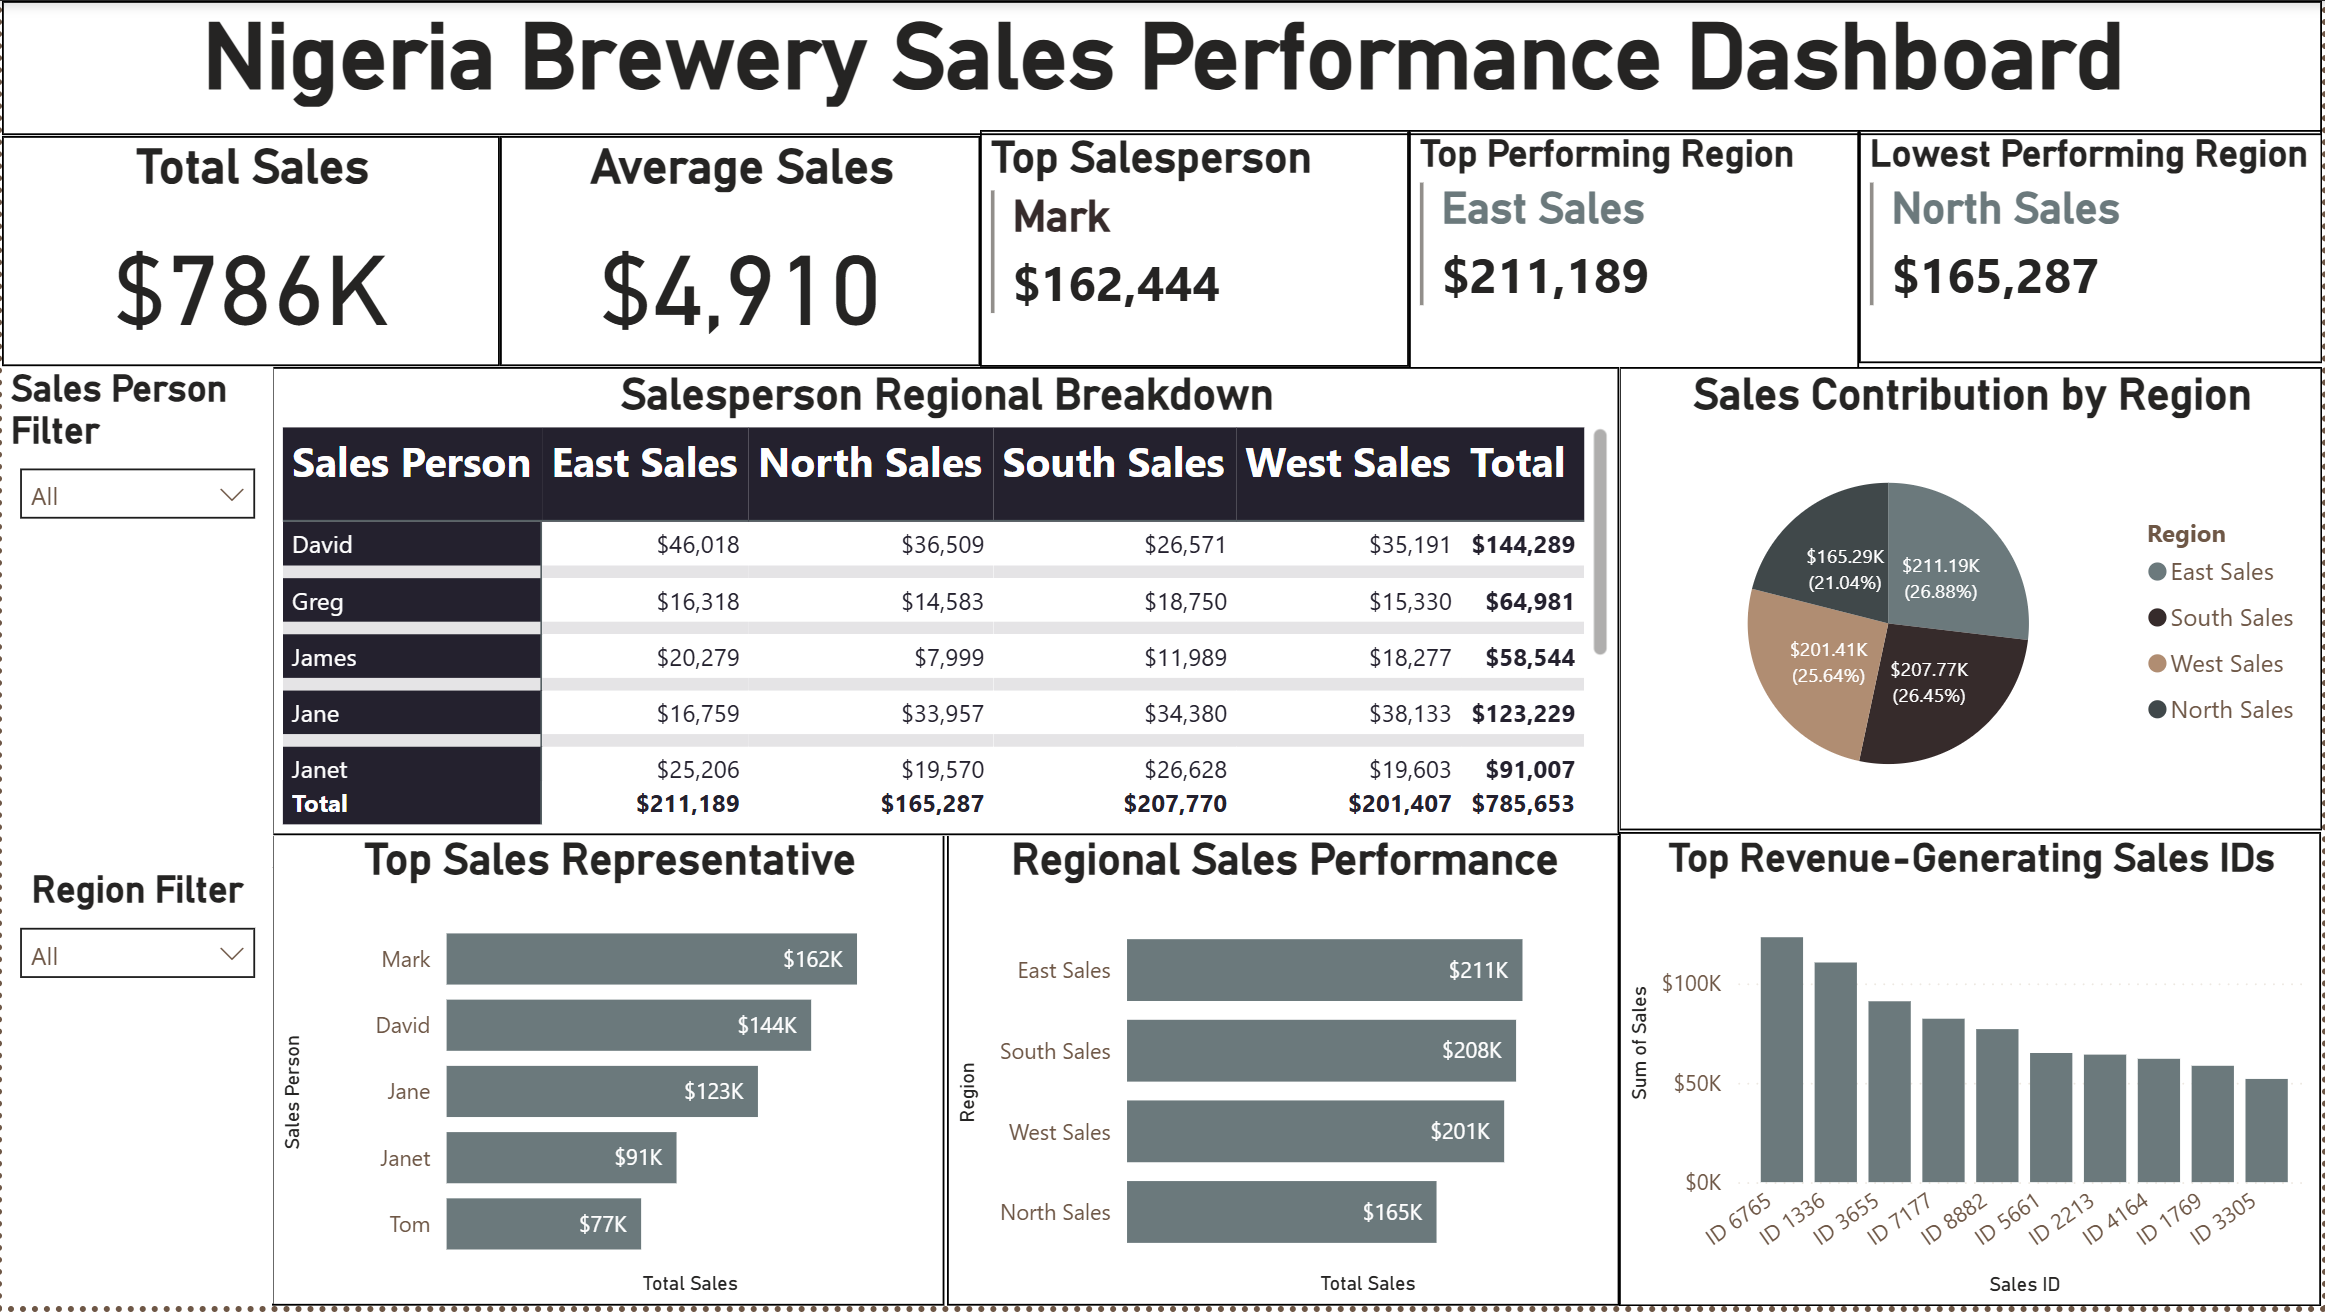

What the dashboard file says about the page in this screenshot:
{"tool":"powerbi","page":{"name":"Page 1","canvas":[1280,720],"ordinal":0},"visuals":[{"type":"card","title":"Total Sales","fields":{"Values":["NIGERIAN BREWERY SALES.Total Sales"]},"box":[0,73.8,274.6,126.9],"z":0},{"type":"card","title":"Average Sales","fields":{"Values":["NIGERIAN BREWERY SALES.AVERAGE SALES PER REGION"]},"box":[274.6,73.8,265.1,126.9],"z":1000},{"type":"multiRowCard","title":"Top Performing Region","fields":{"Values":["NIGERIAN BREWERY SALES.Region","Sum(NIGERIAN BREWERY SALES.Sales)"]},"box":[776.3,71.2,248.3,132.4],"z":2000},{"type":"multiRowCard","title":"Top Salesperson","fields":{"Values":["NIGERIAN BREWERY SALES.Sales Person","Sum(NIGERIAN BREWERY SALES.Sales)"]},"box":[539.6,72,236.7,130.7],"z":3000},{"type":"multiRowCard","title":"Lowest Performing Region","fields":{"Values":["NIGERIAN BREWERY SALES.Region","Sum(NIGERIAN BREWERY SALES.Sales)"]},"box":[1024.4,72,255.6,128.8],"z":4000},{"type":"barChart","title":"Regional Sales Performance","fields":{"Y":["NIGERIAN BREWERY SALES.Total Sales"],"Category":["NIGERIAN BREWERY SALES.Region"]},"box":[520.7,458.2,371.1,261.3],"z":5000},{"type":"clusteredBarChart","title":"Top Sales Representative","fields":{"Category":["NIGERIAN BREWERY SALES.Sales Person"],"Y":["NIGERIAN BREWERY SALES.Total Sales"]},"box":[149.6,458.2,371.1,261.3],"z":6000},{"type":"pieChart","title":"Sales Contribution by Region","fields":{"Category":["NIGERIAN BREWERY SALES.Region"],"Y":["Sum(NIGERIAN BREWERY SALES.Sales)"]},"box":[891.8,202.6,388.2,255.6],"z":7000},{"type":"pivotTable","title":"Salesperson Regional Breakdown","fields":{"Rows":["NIGERIAN BREWERY SALES.Sales Person"],"Columns":["NIGERIAN BREWERY SALES.Region"],"Values":["Sum(NIGERIAN BREWERY SALES.Sales)"]},"box":[149,201.9,743.2,258.2],"z":8000},{"type":"columnChart","title":"Top Revenue-Generating Sales IDs","fields":{"Category":["NIGERIAN BREWERY SALES.Sales ID"],"Y":["Sum(NIGERIAN BREWERY SALES.Sales)"]},"box":[892.1,458.5,387.3,261.5],"z":9000},{"type":"slicer","title":"Region Filter","fields":{"Values":["NIGERIAN BREWERY SALES.Region"]},"box":[0,479.1,149.6,240.5],"z":10000},{"type":"slicer","title":"Sales Person Filter","fields":{"Values":["NIGERIAN BREWERY SALES.Sales Person"]},"box":[0,202.6,149.6,276.4],"z":11000},{"type":"shape","title":"Nigeria Brewery Sales Performance Dashboard","box":[0,0,1280,73.8],"z":11001}]}

Visuals, with their boxes in screenshot pixels (x1, y1, x2, y2), scaled from the page's 1280x720 canvas onto the 2325x1313 screenshot:
"Total Sales" card: (0, 135, 499, 366)
"Average Sales" card: (499, 135, 980, 366)
"Top Performing Region" multiRowCard: (1410, 130, 1861, 371)
"Top Salesperson" multiRowCard: (980, 131, 1410, 370)
"Lowest Performing Region" multiRowCard: (1861, 131, 2324, 366)
"Regional Sales Performance" barChart: (946, 836, 1620, 1312)
"Top Sales Representative" clusteredBarChart: (272, 836, 946, 1312)
"Sales Contribution by Region" pieChart: (1620, 369, 2324, 836)
"Salesperson Regional Breakdown" pivotTable: (271, 368, 1621, 839)
"Top Revenue-Generating Sales IDs" columnChart: (1620, 836, 2324, 1312)
"Region Filter" slicer: (0, 874, 272, 1312)
"Sales Person Filter" slicer: (0, 369, 272, 874)
"Nigeria Brewery Sales Performance Dashboard" shape: (0, 0, 2324, 135)
